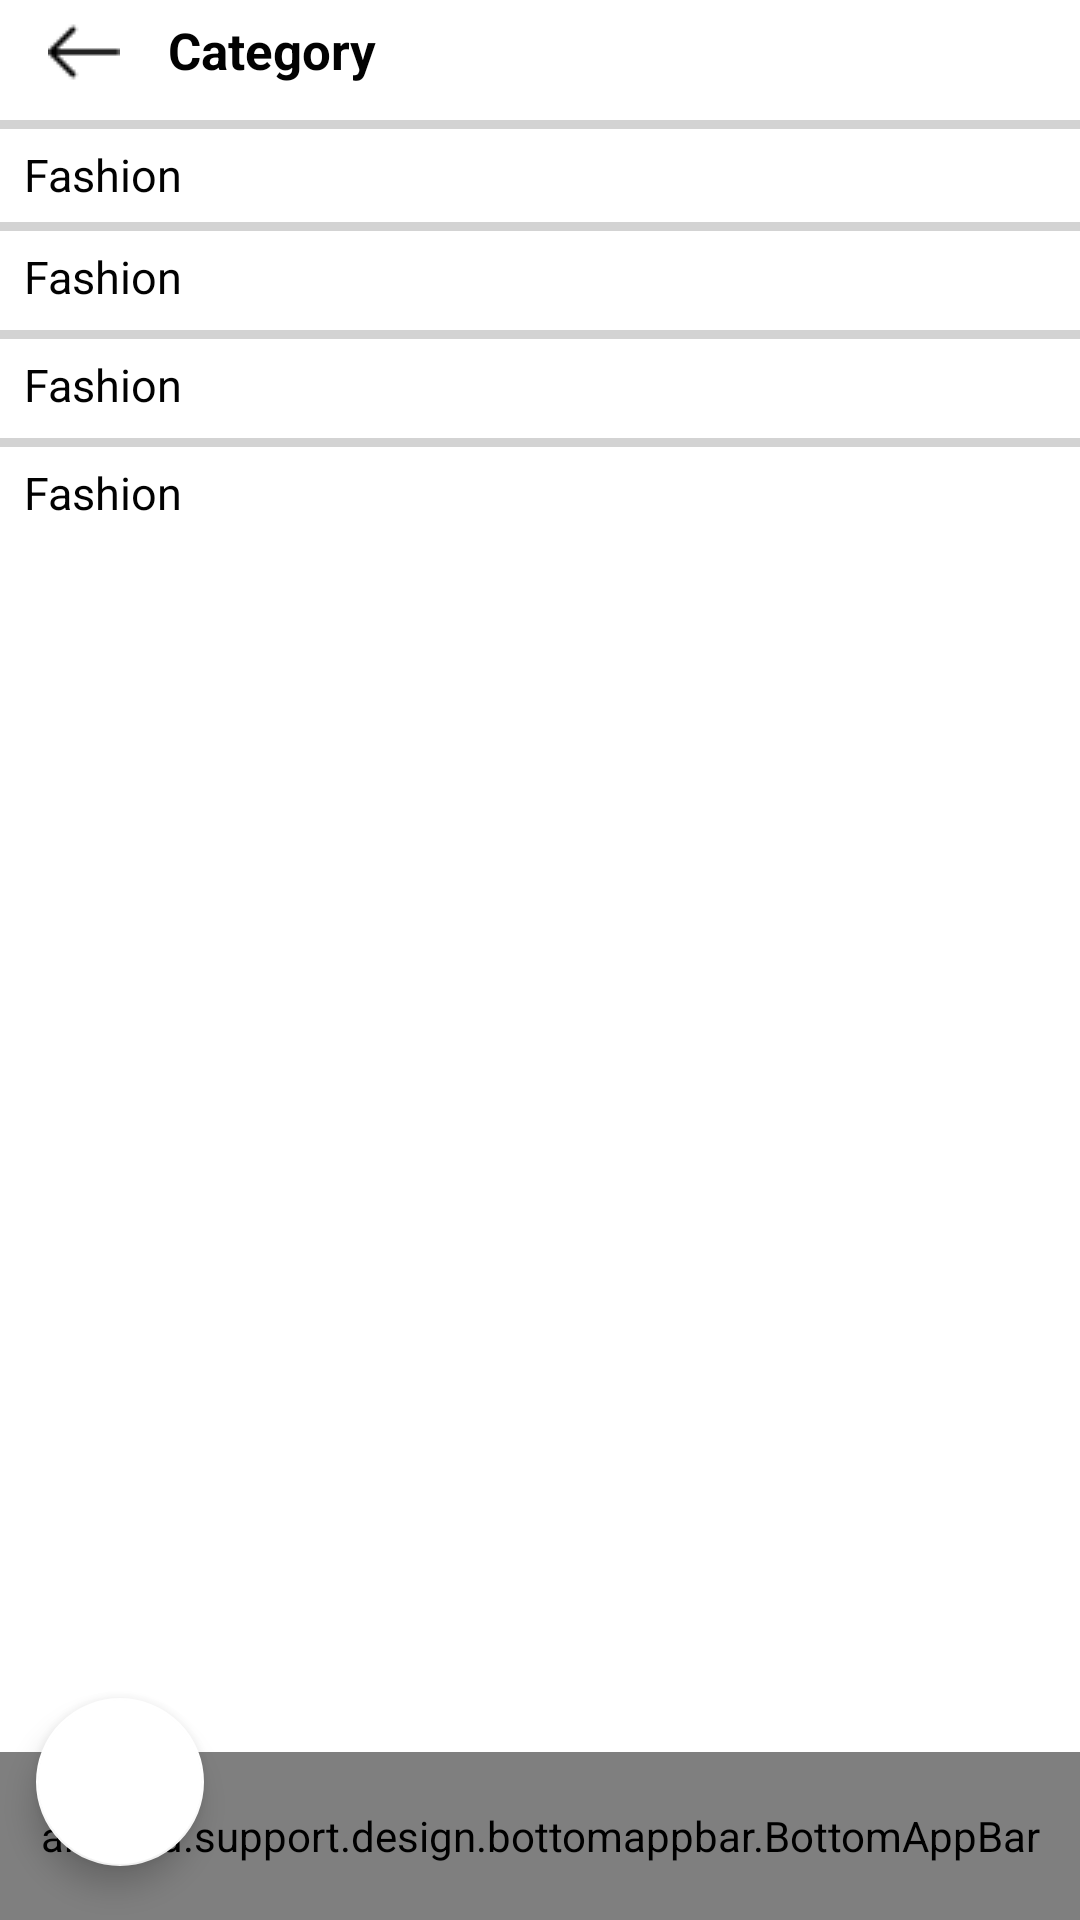

Where icons sit on this 1080x1920 app screen, as (x1, y1, x2, y2):
back: (48, 24, 120, 80)
